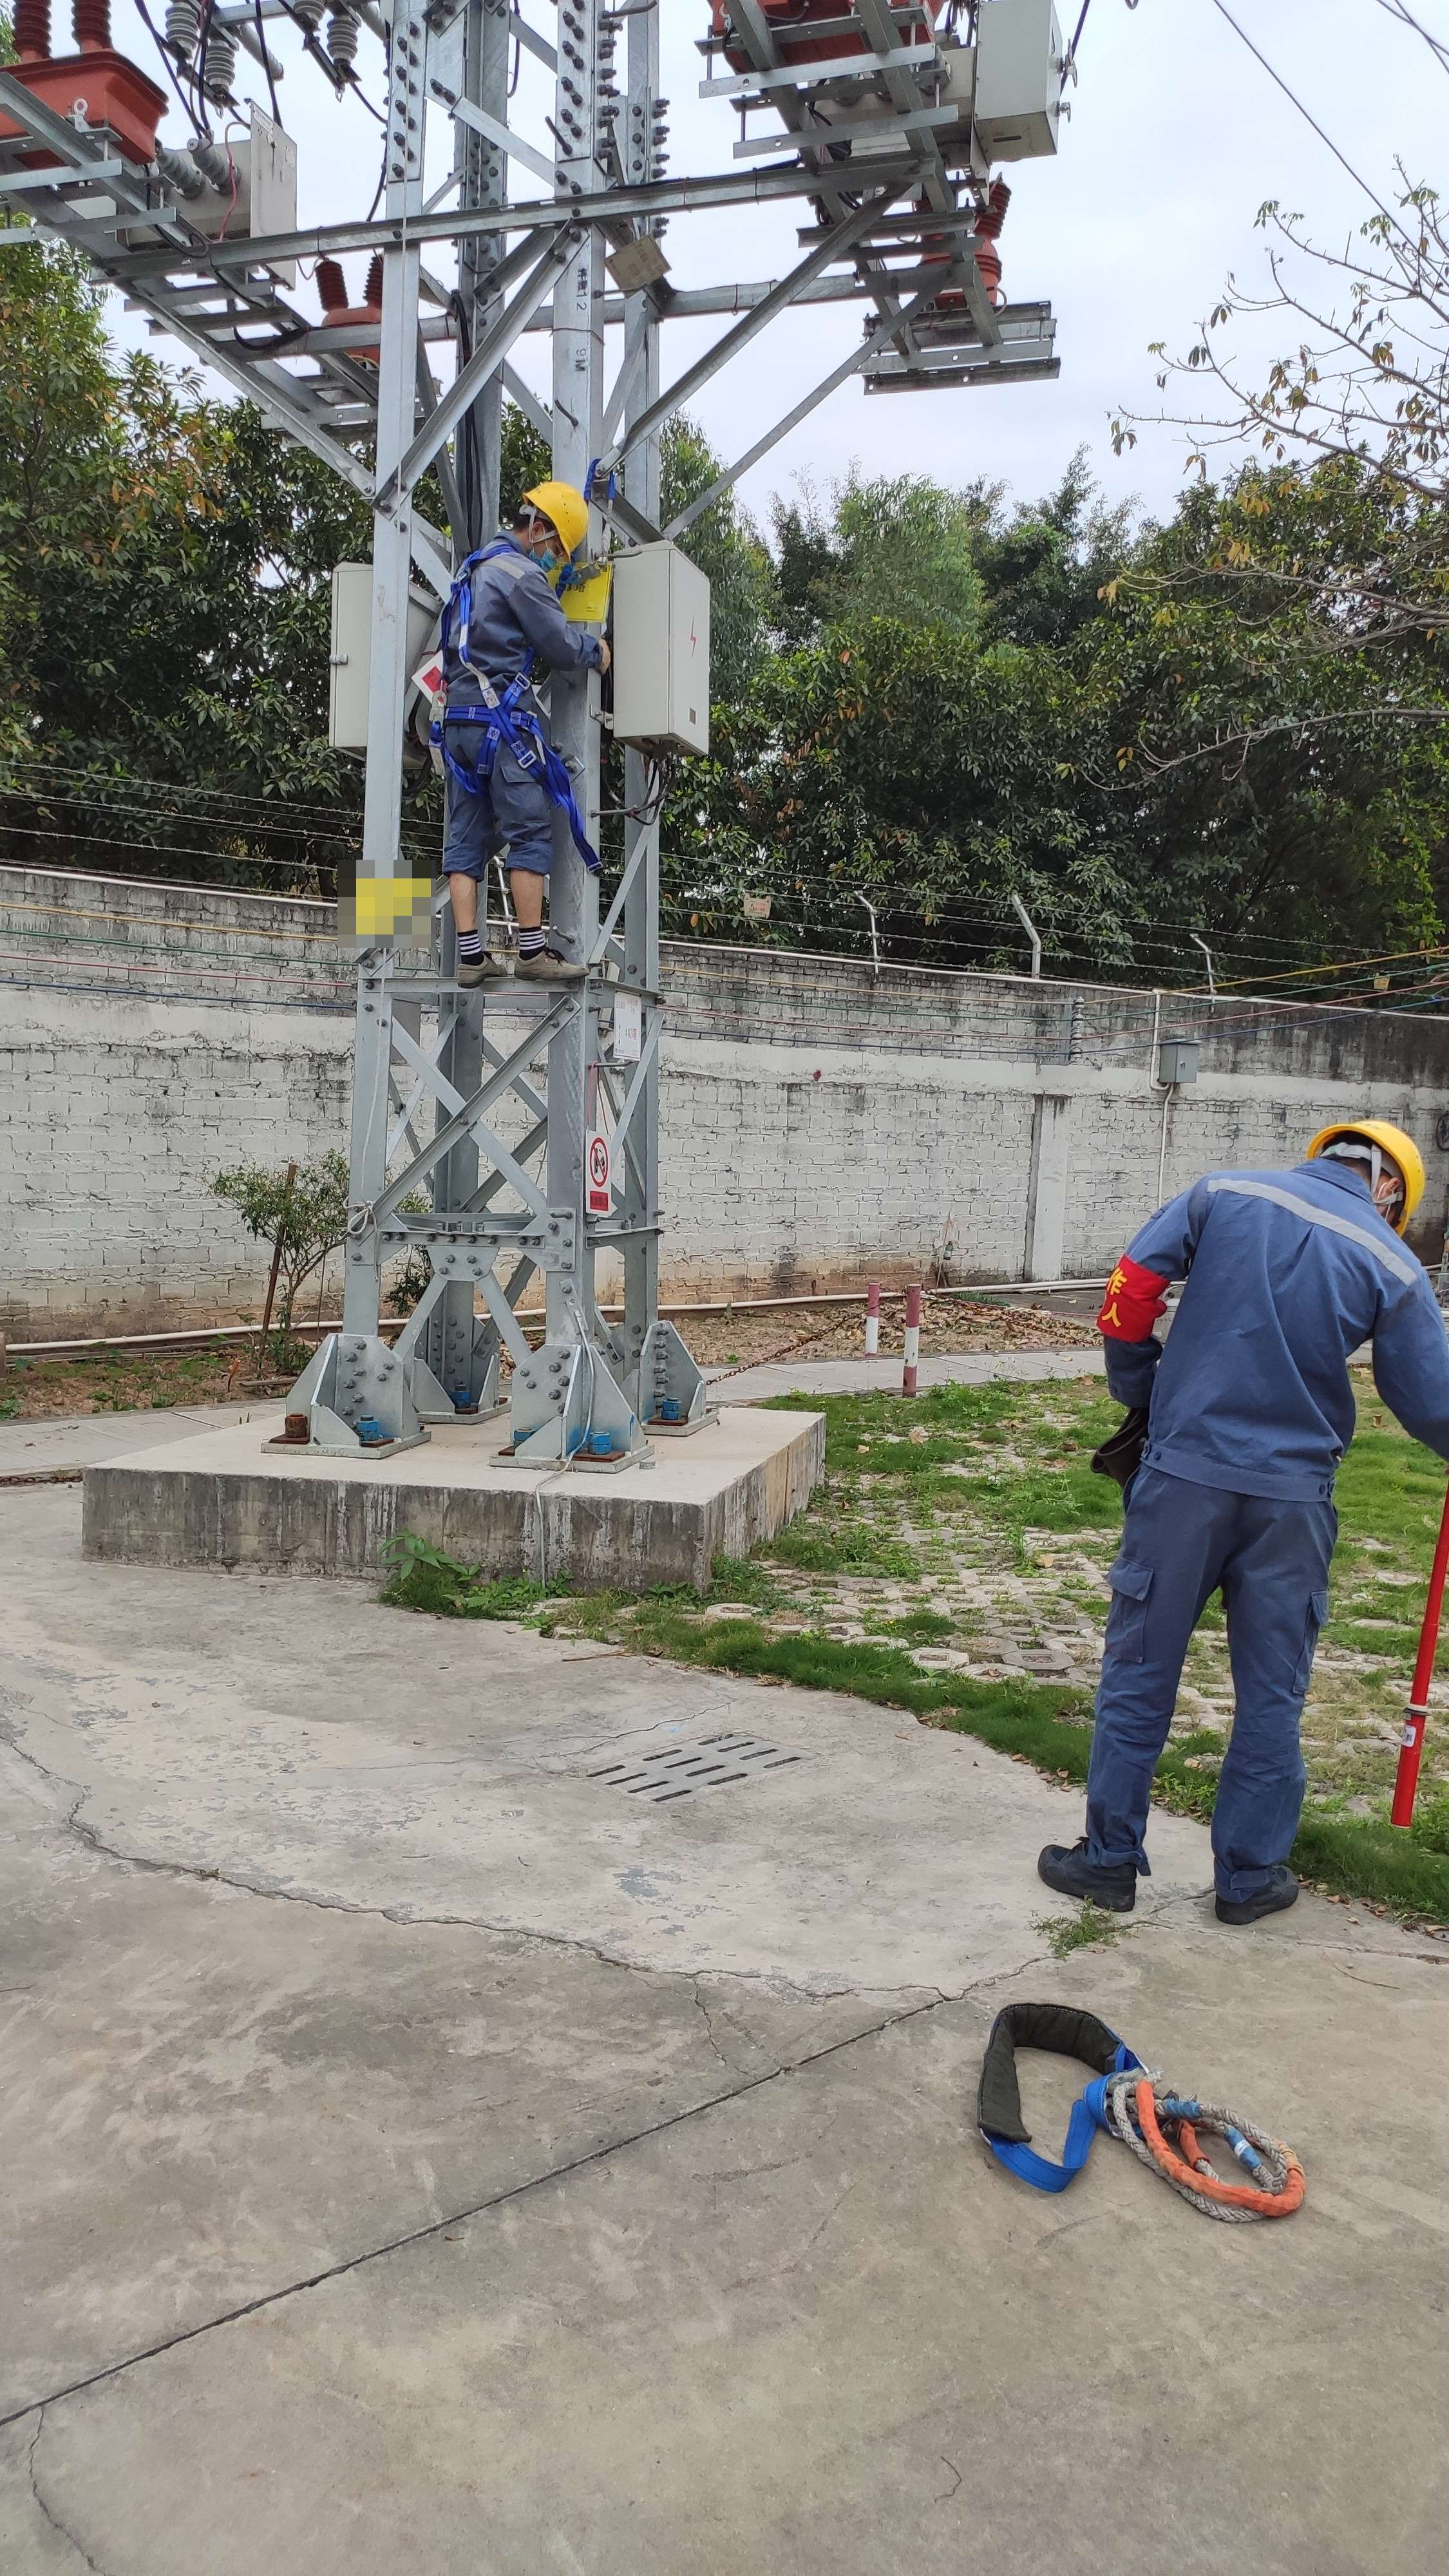downsuit: (1054, 1472, 1345, 1867), (442, 722, 552, 876)
upsuit: (1120, 1166, 1430, 1428), (449, 554, 573, 717)
wrongbottom: (432, 833, 497, 936), (502, 839, 547, 929), (448, 847, 485, 941)
